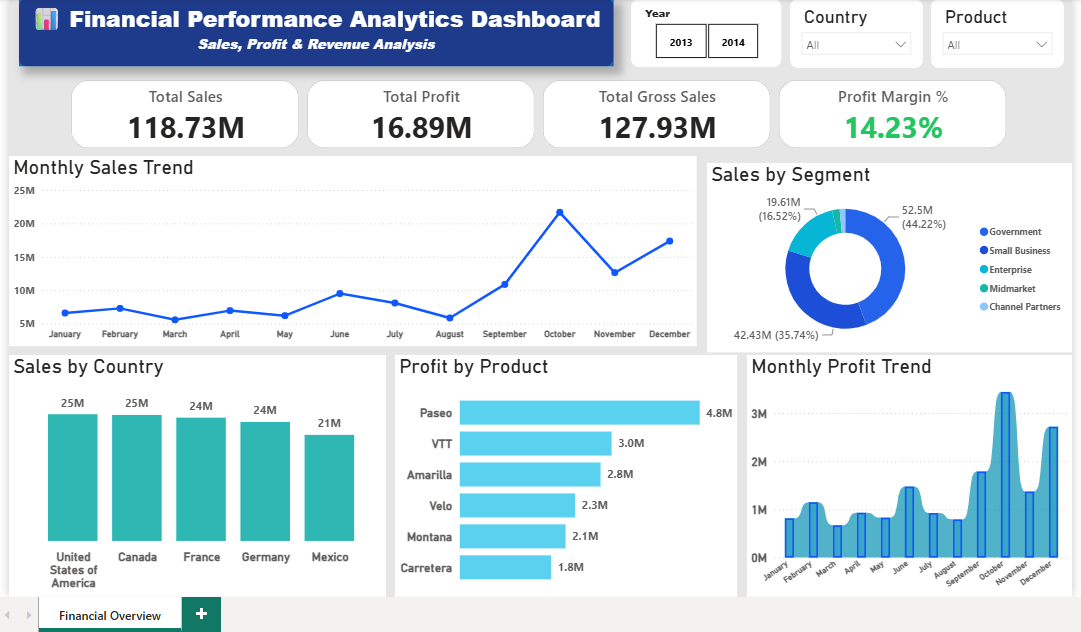

The dashboard page shown, as its layout file describes it:
{"tool":"powerbi","page":{"name":"Financial Overview","canvas":[1280,720],"ordinal":0},"visuals":[{"type":"lineChart","title":"Monthly Sales Trend","fields":{"Category":["financials.Month Name"],"Y":["financials.Total Sales"]},"box":[0,188.6,828,229],"z":0},{"type":"ribbonChart","title":"Monthly Profit Trend","fields":{"Category":["financials.Month Name"],"Y":["financials.Total Profit"]},"box":[888.5,429.1,391.7,290.9],"z":1000},{"type":"clusteredColumnChart","title":"Sales by Country","fields":{"Category":["financials.Country"],"Y":["financials.Total Sales"]},"box":[0,429.1,453.6,290.9],"z":2000},{"type":"clusteredBarChart","title":"Profit by Product","fields":{"Category":["financials.Product"],"Y":["financials.Total Profit"]},"box":[465.1,429.1,411.8,290.9],"z":3000},{"type":"donutChart","title":"Sales by Segment","fields":{"Category":["financials.Segment"],"Y":["financials.Total Sales"]},"box":[840,197.8,440,227.8],"z":4000},{"type":"slicer","fields":{"Values":["financials.Year"]},"box":[748.8,0,181.4,82.1],"z":5000},{"type":"slicer","fields":{"Values":["financials.Country"]},"box":[940,0,160,82.5],"z":6000},{"type":"slicer","fields":{"Values":["financials.Product"]},"box":[1110,0,160,82.5],"z":7000},{"type":"cardVisual","fields":{"Data":["financials.Total Sales","financials.Total Profit","financials.Total Gross Sales","financials.Profit Margin %"]},"box":[57.6,80.6,1163.5,116.6],"z":8000},{"type":"shape","box":[11.5,0,715.7,80.6],"z":9000},{"type":"textbox","box":[5.8,0,727.2,109.4],"z":10000}]}

Visuals, with their boxes on the page's 1280x720 design canvas (x1, y1, x2, y2). These are canvas units, not pixel positions in the 1081x632 screenshot, which may show the page scaled, cropped or inside an application window:
"Monthly Sales Trend" lineChart: {"left": 0, "top": 189, "right": 828, "bottom": 418}
"Monthly Profit Trend" ribbonChart: {"left": 888, "top": 429, "right": 1280, "bottom": 720}
"Sales by Country" clusteredColumnChart: {"left": 0, "top": 429, "right": 454, "bottom": 720}
"Profit by Product" clusteredBarChart: {"left": 465, "top": 429, "right": 877, "bottom": 720}
"Sales by Segment" donutChart: {"left": 840, "top": 198, "right": 1280, "bottom": 426}
slicer - financials.Year: {"left": 749, "top": 0, "right": 930, "bottom": 82}
slicer - financials.Country: {"left": 940, "top": 0, "right": 1100, "bottom": 82}
slicer - financials.Product: {"left": 1110, "top": 0, "right": 1270, "bottom": 82}
cardVisual - financials.Total Sales x financials.Total Profit: {"left": 58, "top": 81, "right": 1221, "bottom": 197}
shape: {"left": 12, "top": 0, "right": 727, "bottom": 81}
textbox: {"left": 6, "top": 0, "right": 733, "bottom": 109}
